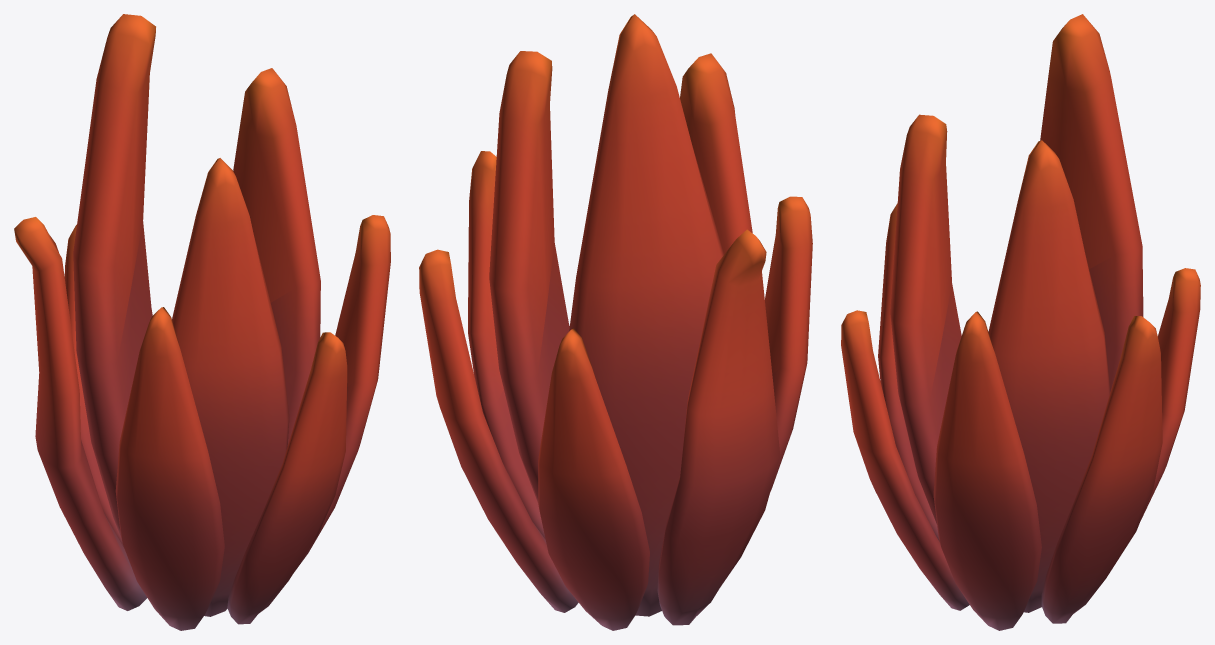
Rendered from Plants_030.fbx.
3 views of the same model, side by side, from view 1: azimuth 30°, elevation 25°; view 2: azimuth 150°, elevation 25°; view 3: azimuth 270°, elevation 25° (orthographic). The views are drawn at different scales.
Parts seen in each view (by area): view 1: Plants.030; view 2: Plants.030; view 3: Plants.030.
Boxes of the visible parts, x1,y1,x2,y2 form: Plants.030: [14, 14, 390, 630]; Plants.030: [419, 14, 812, 630]; Plants.030: [841, 14, 1200, 630].
Size of the model in its own units: 444 by 760 by 437.
